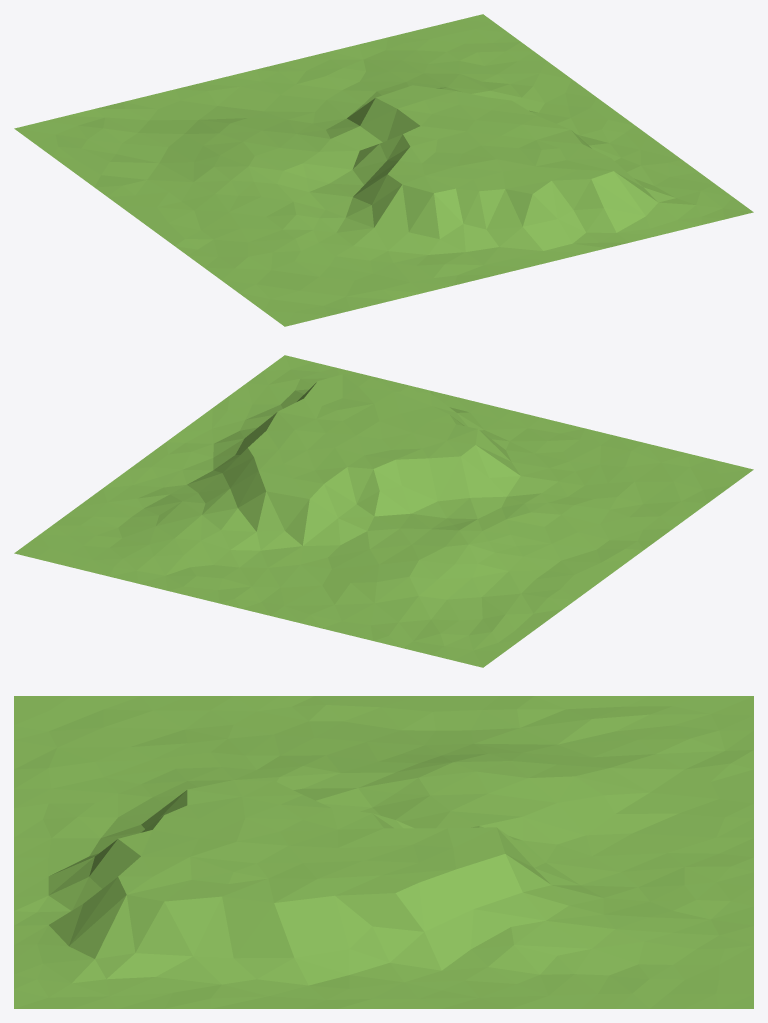
The model's file is MT_Terrain_M_c_14.fbx.
The picture shows the model from 3 angles, top to bottom: view 1: azimuth 30°, elevation 25°; view 2: azimuth 150°, elevation 25°; view 3: azimuth 270°, elevation 25°; orthographic projection. The views are drawn at different scales.
Parts seen in each view (by area): view 1: MT_Terrain_M_c_14; view 2: MT_Terrain_M_c_14; view 3: MT_Terrain_M_c_14.
Boxes of the visible parts, left/top/right/bottom form: MT_Terrain_M_c_14: left=14, top=14, right=753, bottom=326; MT_Terrain_M_c_14: left=14, top=355, right=753, bottom=667; MT_Terrain_M_c_14: left=14, top=696, right=753, bottom=1008.
Bounding box in the file's own units: 5000 × 380 × 5000.
